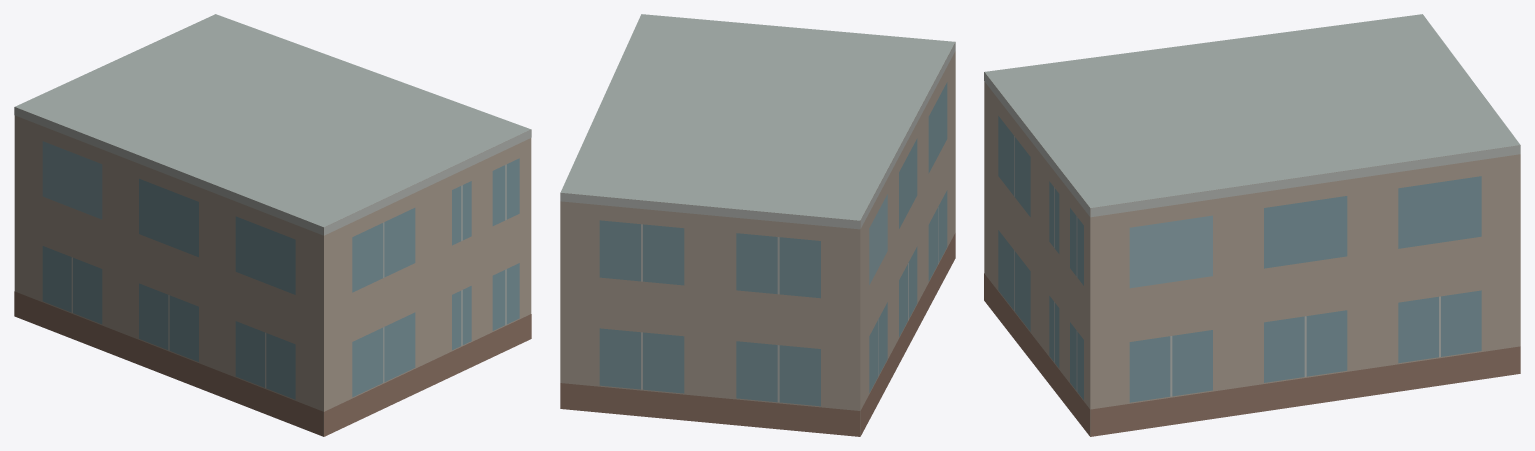
File: survey-upis-32963222.glb
3 renders of one model, left to right at view 1: azimuth 30°, elevation 25°; view 2: azimuth 150°, elevation 25°; view 3: azimuth 270°, elevation 25°, orthographic. The views are drawn at different scales.
Parts seen in each view (by area): view 1: survey-upis-32963222.tmp; view 2: survey-upis-32963222.tmp; view 3: survey-upis-32963222.tmp.
Part boxes in pixels (left/top/right/bottom): survey-upis-32963222.tmp: left=14, top=14, right=531, bottom=436; survey-upis-32963222.tmp: left=560, top=14, right=955, bottom=436; survey-upis-32963222.tmp: left=984, top=14, right=1520, bottom=436.
Size of the model in its own units: 11.12 by 6.1 by 12.98.
